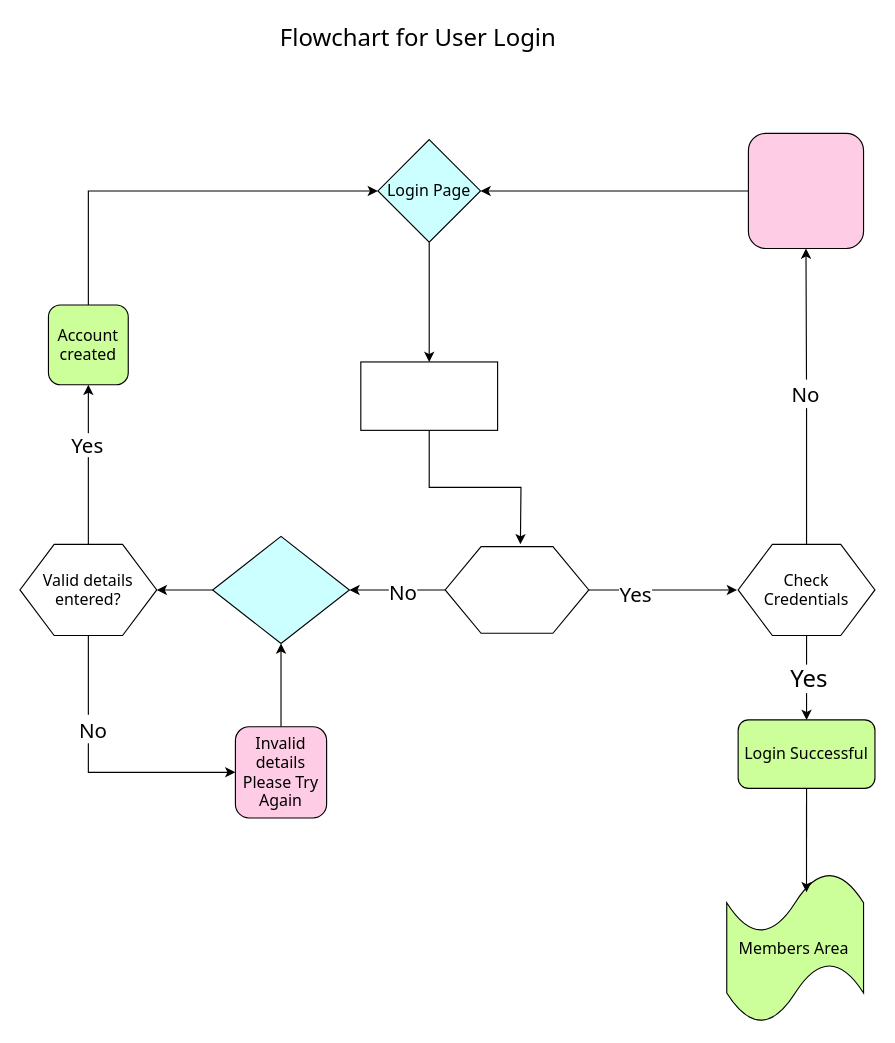
The diagram is 895 pixels wide and 1043 high, and some of its shapes have lost their labels. The shapes that lost their labels are listed below. From the top down, each one's centre as x and y in pixels, then its label:
At point (805, 190): "Incorrect Login Details Please Try Again".
At point (429, 395): "User attempts Login".
At point (280, 589): "Registration Page".
At point (516, 589): "Check if user in database".
